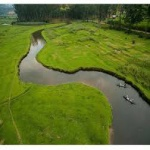River: (14, 24, 150, 144)
Uncultivated: (3, 89, 101, 143), (52, 25, 146, 68)
